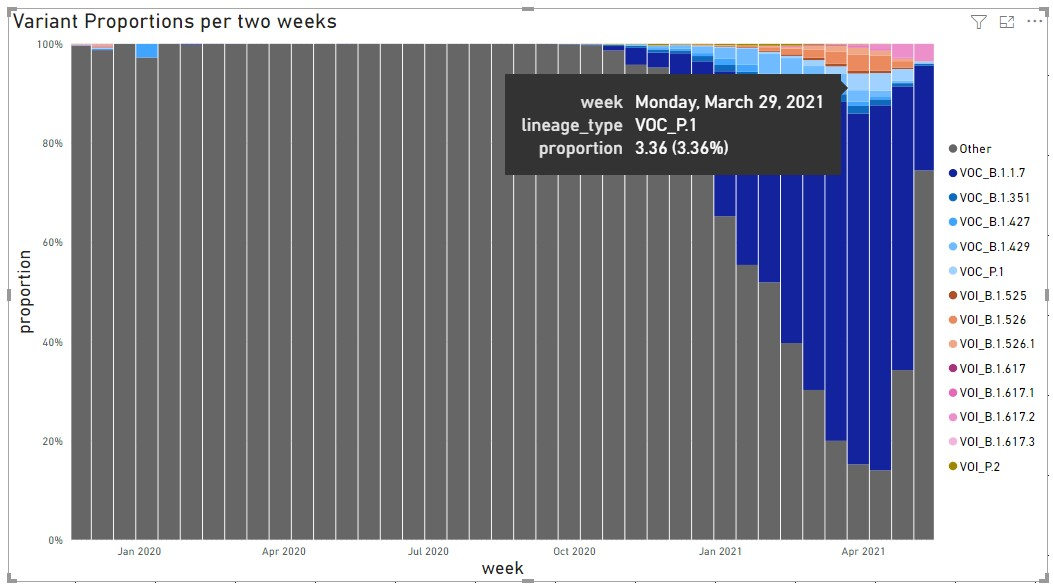

The page's visual inventory and layout, read from the dashboard file:
{"tool":"powerbi","page":{"name":"var props","canvas":[1280,720],"ordinal":0},"visuals":[{"type":"hundredPercentStackedColumnChart","title":"Variant Proportions per two weeks","fields":{"Category":["lineage_prevalence_by_2week2021-05-19.week"],"Series":["lineage_prevalence_by_2week2021-05-19.lineage_type"],"Y":["Sum(lineage_prevalence_by_2week2021-05-19.proportion)"]},"box":[16,16,1248,688],"z":0}]}

Visuals, with their boxes on the page's 1280x720 design canvas (x1, y1, x2, y2). These are canvas units, not pixel positions in the 1053x587 screenshot, which may show the page scaled, cropped or inside an application window:
"Variant Proportions per two weeks" hundredPercentStackedColumnChart: crop(16, 16, 1264, 704)
